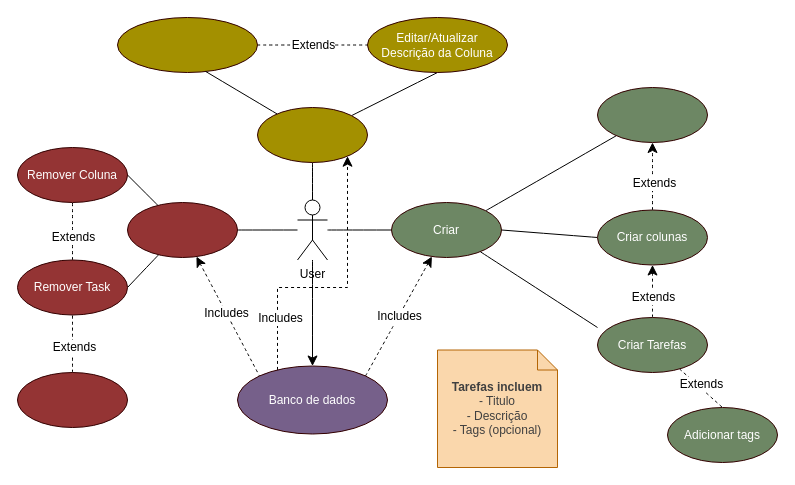
This 795x485 diagram has some shape labels left out. Each missing label, with the box of its shape:
Criar novo projeto: (596, 86, 708, 142)
Deletar: (126, 202, 238, 258)
Editar/Atualizar: (256, 106, 368, 162)
Editar/Atualizar Tarefas: (116, 16, 258, 72)
Remover tags: (16, 372, 128, 428)
